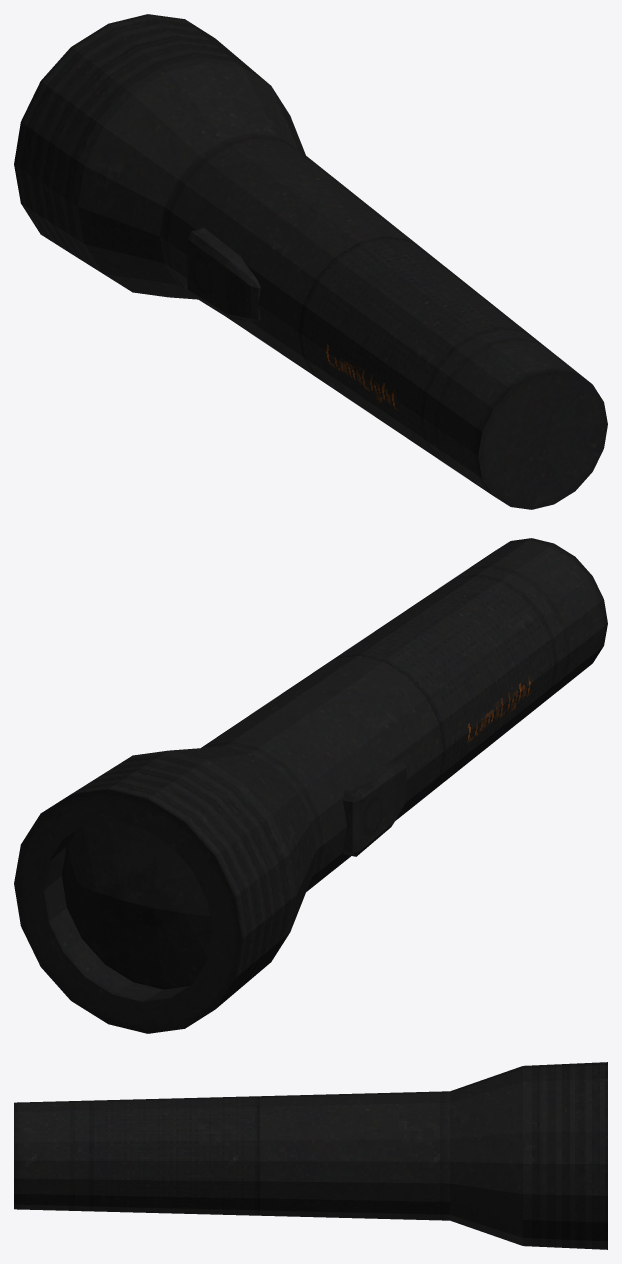
The model's file is flashlight.glb.
3 views of the same model, one above another, from view 1: azimuth 30°, elevation 25°; view 2: azimuth 150°, elevation 25°; view 3: azimuth 270°, elevation 25° (orthographic). The views are drawn at different scales.
Parts seen in each view (by area): view 1: LP_FlashLight; view 2: LP_FlashLight; view 3: LP_FlashLight.
Boxes of the visible parts, bbox=[...] form: LP_FlashLight: bbox=[14, 14, 607, 509]; LP_FlashLight: bbox=[14, 538, 607, 1033]; LP_FlashLight: bbox=[14, 1062, 607, 1249].
Bounding box in the file's own units: 0.1079 × 0.1062 × 0.34.
4 materials, 4 textured.
